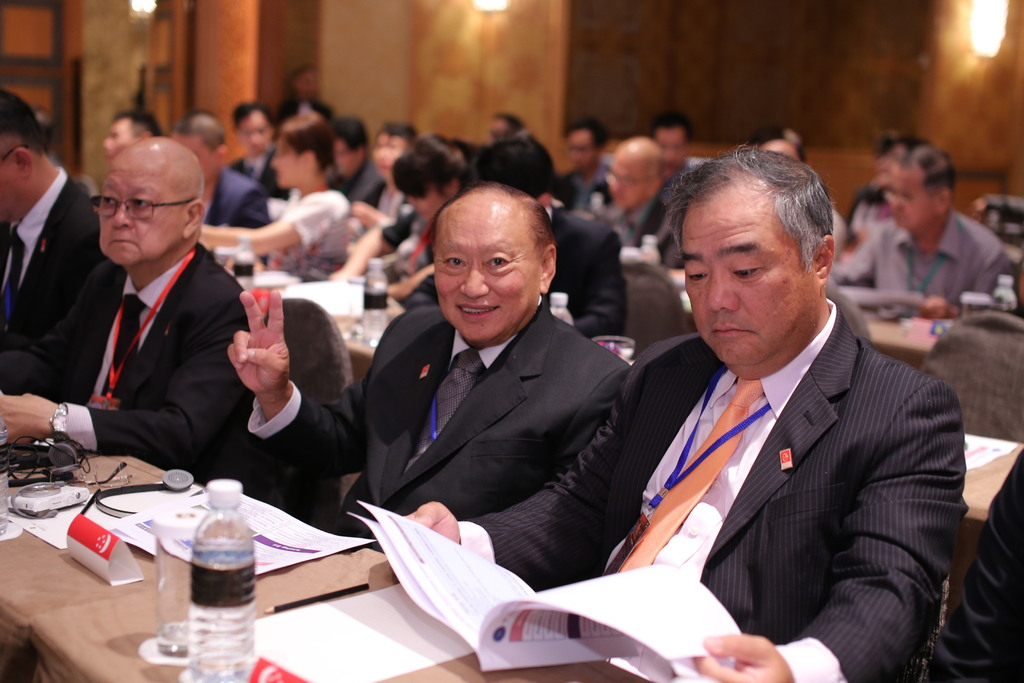Human_hand: (225, 289, 289, 394), (689, 635, 796, 682), (0, 390, 63, 450), (402, 501, 461, 544), (917, 294, 954, 320)
